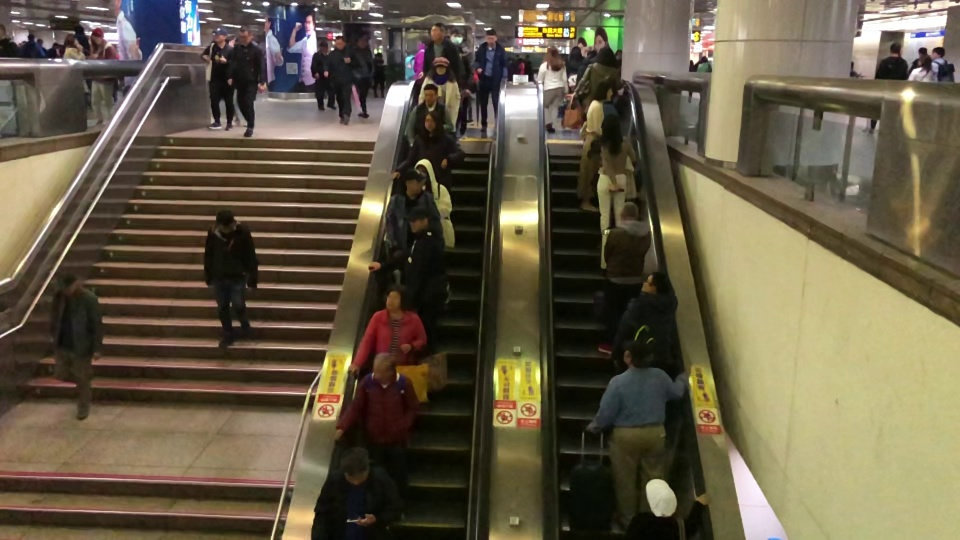person_head: (339, 446, 369, 482), (372, 352, 400, 381), (621, 340, 653, 365), (651, 488, 678, 511), (641, 271, 667, 294), (384, 283, 407, 307), (55, 271, 80, 293), (405, 209, 429, 230), (215, 209, 236, 231), (601, 114, 620, 136), (619, 200, 640, 219), (421, 110, 439, 132), (428, 23, 449, 41), (404, 173, 424, 191), (594, 80, 611, 101), (422, 83, 438, 102), (432, 57, 448, 75), (451, 27, 465, 45), (484, 28, 498, 44), (597, 46, 613, 58), (918, 55, 931, 68), (889, 42, 901, 56), (239, 25, 250, 40), (333, 34, 345, 47), (213, 30, 227, 41), (932, 46, 946, 57), (64, 34, 76, 46), (416, 162, 428, 174), (92, 28, 103, 41), (546, 46, 559, 57), (357, 35, 368, 46), (319, 39, 328, 52), (570, 45, 581, 55), (0, 24, 6, 37), (700, 55, 708, 62), (27, 33, 34, 39)
person_vbox: (585, 339, 691, 531), (334, 351, 422, 524), (367, 209, 448, 317), (46, 271, 103, 423), (596, 200, 651, 355), (314, 446, 402, 540), (203, 208, 258, 350), (347, 283, 427, 376), (610, 271, 677, 368), (596, 114, 636, 271), (415, 162, 455, 303), (391, 110, 465, 179), (577, 80, 612, 213), (624, 487, 711, 540), (226, 25, 267, 137), (385, 173, 441, 255), (470, 27, 509, 131), (867, 42, 910, 133), (200, 30, 233, 130), (417, 57, 461, 130), (323, 34, 358, 124), (87, 28, 120, 123), (406, 83, 453, 145), (451, 26, 475, 140), (537, 46, 569, 130), (574, 46, 613, 111), (423, 23, 465, 81), (351, 34, 375, 117), (310, 39, 335, 110), (62, 34, 87, 93), (931, 45, 955, 81), (20, 32, 46, 58), (0, 23, 19, 57), (908, 55, 933, 80), (565, 44, 581, 73), (694, 54, 711, 71)
